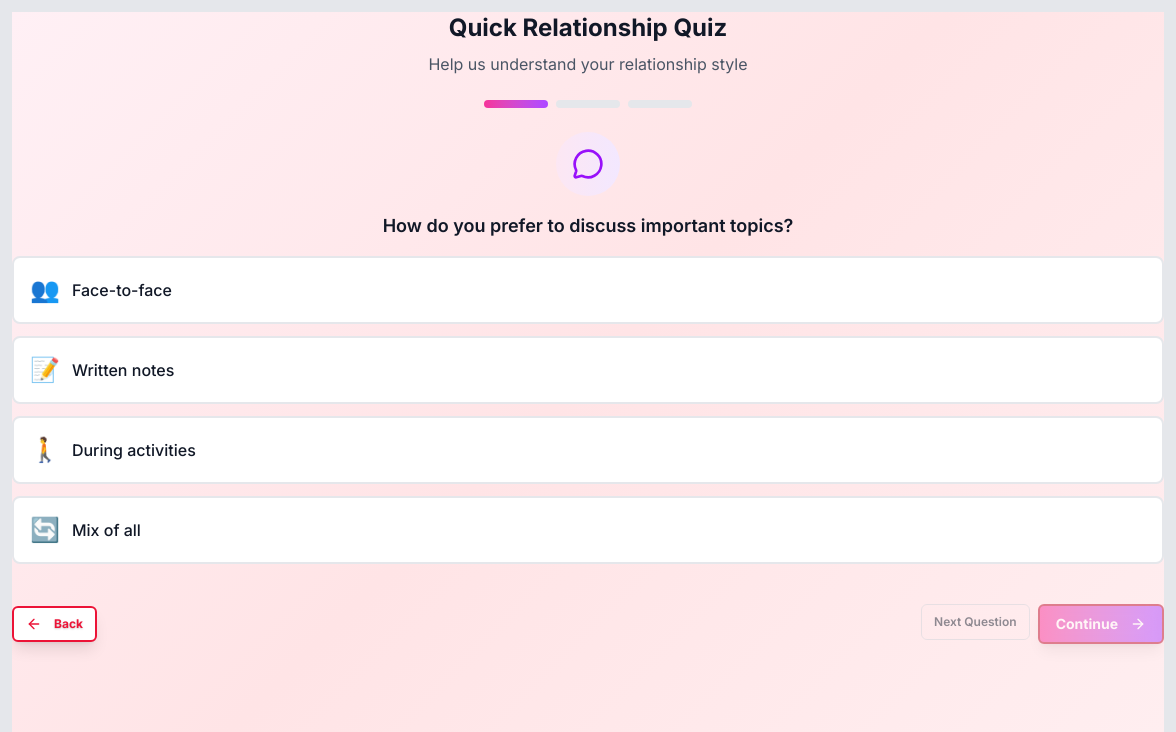
Scenario: QuizStep › enables continue button when all questions are answered
The image size is (1176, 732).
Answer all three questions
Click the text "Face-to-face": (122, 290) [72,278,172,302]
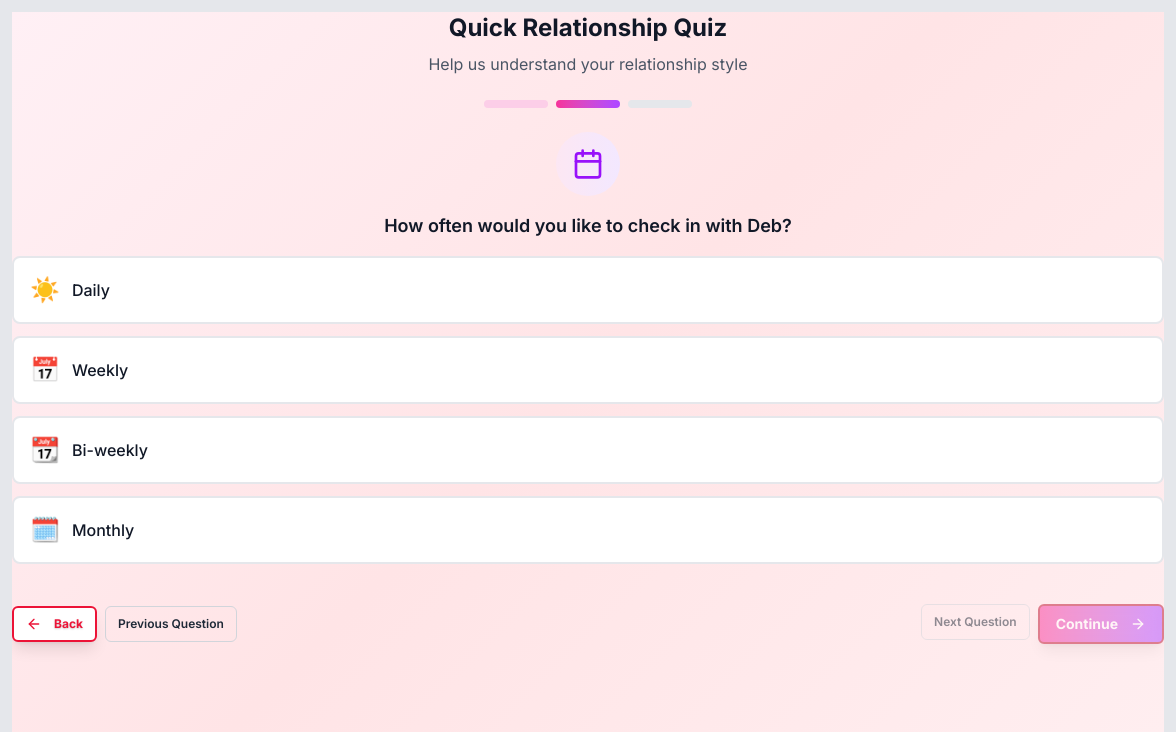
Click the text "Weekly": (100, 370) [72,358,128,382]
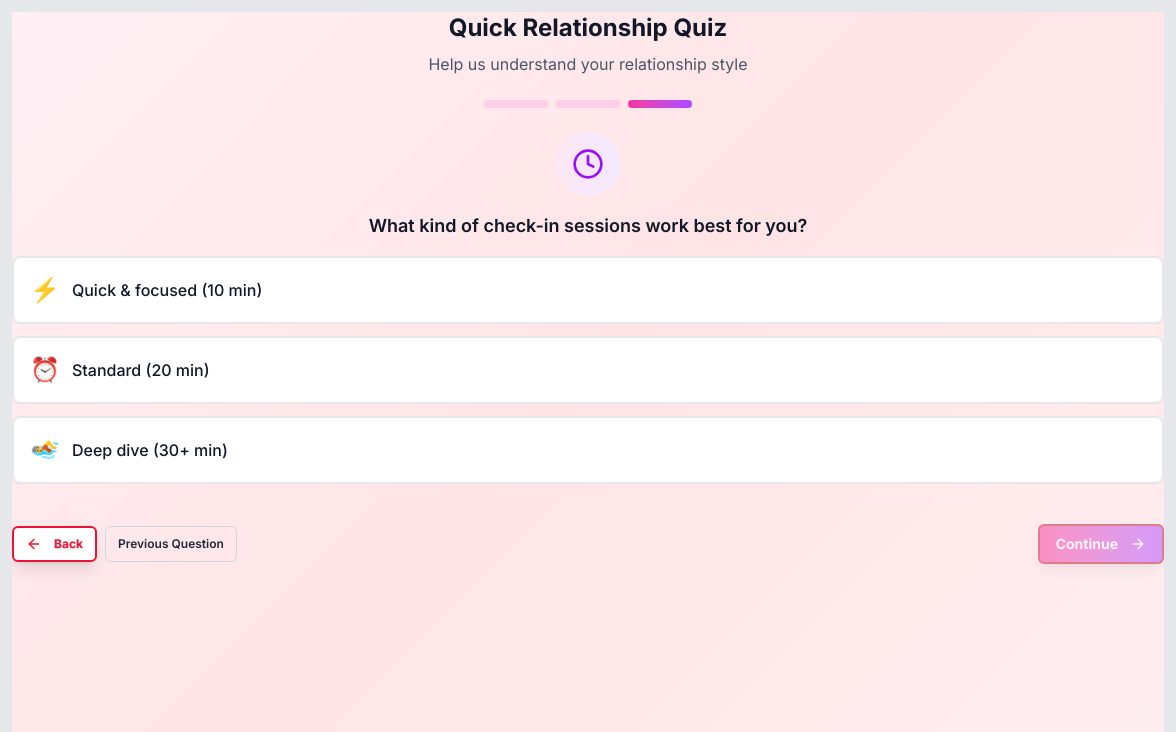
Click the text "Standard (20 min)": (141, 370) [72,358,210,382]
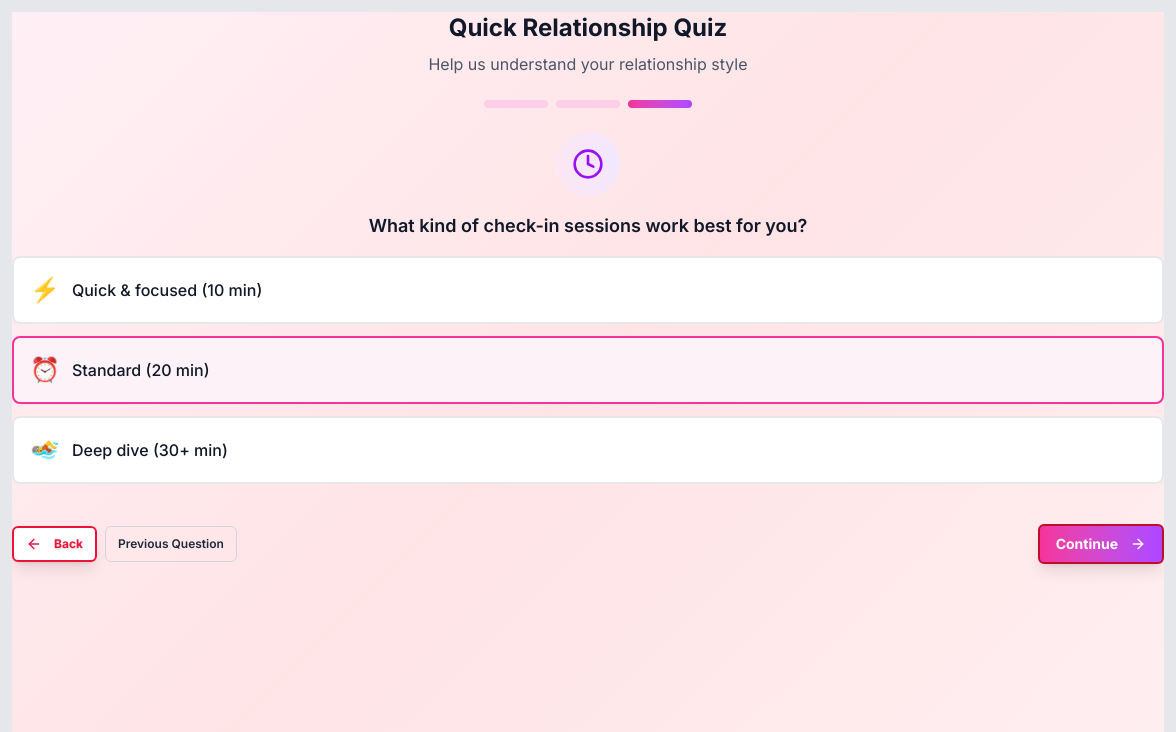
Expected: the button "Continue" is enabled, [1038,524,1164,564]
